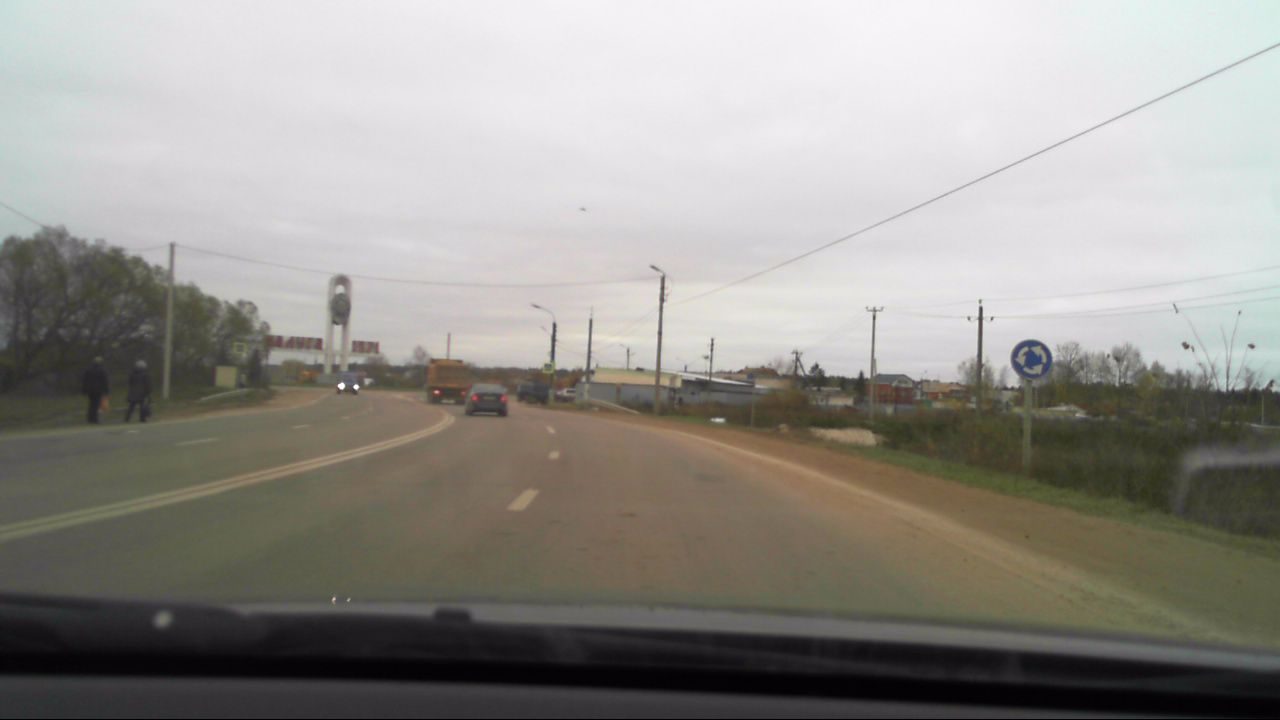Round-About: (1008, 337, 1053, 382)
